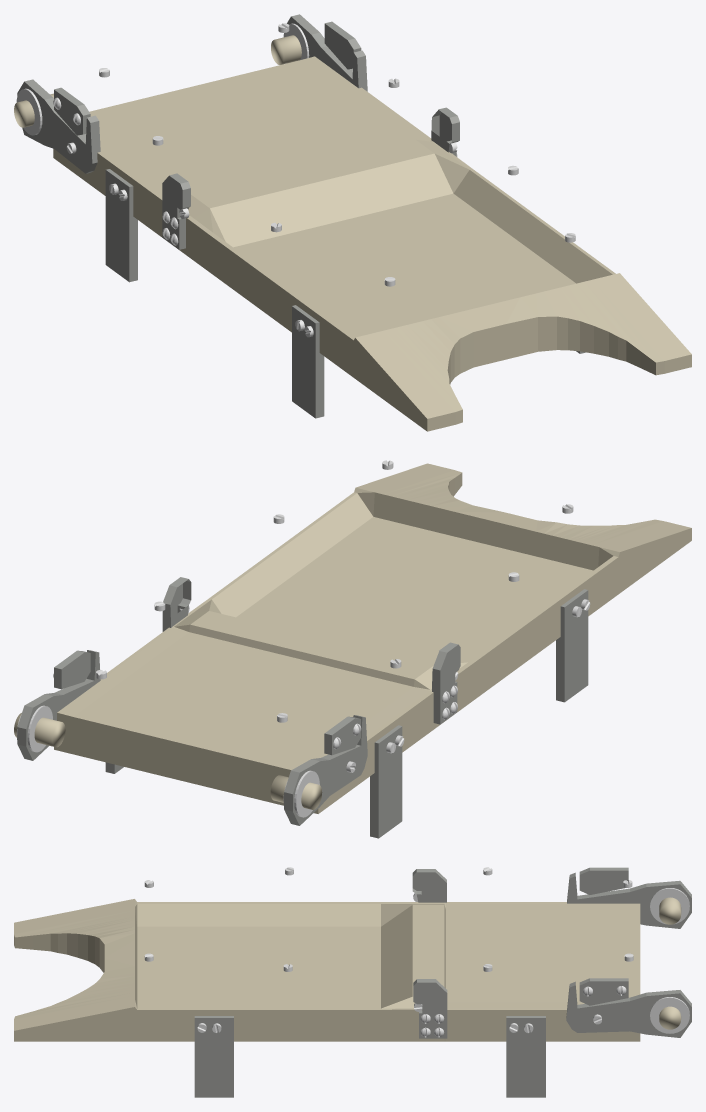
Rendered from fix.dae.
3 views of the same model, one above another, from view 1: azimuth 30°, elevation 25°; view 2: azimuth 150°, elevation 25°; view 3: azimuth 270°, elevation 25° (orthographic). The views are drawn at different scales.
Visible parts, largest first — view 1: Cube.001, Cube.012, Cube.013, Cube.011, Cube.005, Cube.003, Cube.004, Cube.002, Cube.010, Cylinder.025; view 2: Cube.001, Cube.012, Cube.013, Cube.011, Cube.005, Cube.003, Cube.002, Cube.004, Cube.010, Cylinder.026, Cylinder.025, Cylinder.013; view 3: Cube.001, Cube.005, Cube.007, Cube.008, Cube.011, Cube.002, Cube.010, Cube.003, Cube.004, Cylinder.013, Cylinder.020, Cylinder.026 (+1 smaller).
Boxes of the visible parts, x1,y1,x2,y2 form: Cube.001: (53, 56, 691, 431); Cube.012: (105, 169, 137, 282); Cube.013: (292, 305, 324, 418); Cube.011: (17, 79, 100, 173); Cube.005: (287, 14, 367, 91); Cube.003: (162, 173, 190, 249); Cube.004: (324, 21, 361, 69); Cube.002: (431, 107, 459, 156); Cube.010: (54, 87, 90, 135); Cylinder.025: (271, 35, 301, 64); Cube.001: (54, 463, 691, 813); Cube.012: (370, 725, 402, 838); Cube.013: (556, 589, 588, 702); Cube.011: (284, 715, 367, 825); Cube.005: (17, 650, 100, 760); Cube.003: (432, 642, 460, 724); Cube.002: (162, 577, 191, 631); Cube.004: (54, 650, 90, 689); Cube.010: (324, 716, 360, 755); Cylinder.026: (270, 775, 322, 809); Cylinder.025: (14, 713, 65, 747); Cylinder.013: (16, 705, 52, 752); Cube.001: (14, 899, 640, 1041); Cube.005: (566, 981, 691, 1037); Cube.007: (506, 1016, 545, 1097); Cube.008: (194, 1016, 233, 1097); Cube.011: (567, 872, 691, 928); Cube.002: (413, 979, 447, 1038); Cube.010: (579, 867, 628, 894); Cube.003: (412, 869, 446, 902); Cube.004: (579, 978, 628, 1005); Cylinder.013: (650, 997, 689, 1033); Cylinder.020: (650, 888, 689, 924); Cylinder.026: (659, 897, 681, 924).
Size of the model in its own units: 2.87 by 6.8 by 1.37.
